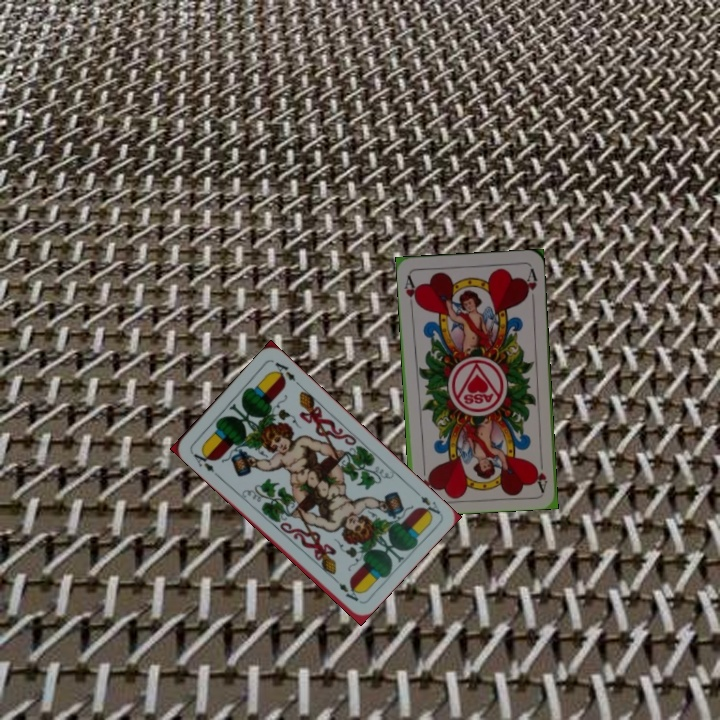EA: (409, 485, 443, 520), (187, 446, 221, 479)
HA: (400, 271, 421, 308), (531, 452, 549, 493)
